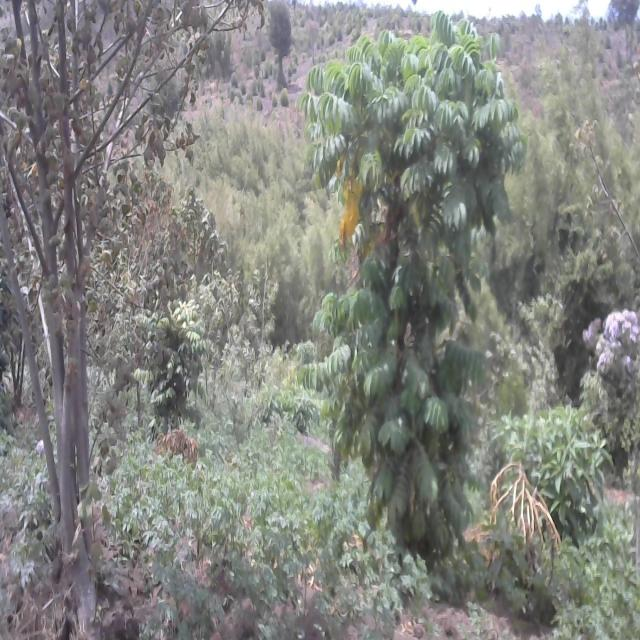Hagenia abyssinica: (306, 0, 520, 572)
Polyscias fulva: (137, 290, 210, 418)
other: (0, 0, 221, 640)
